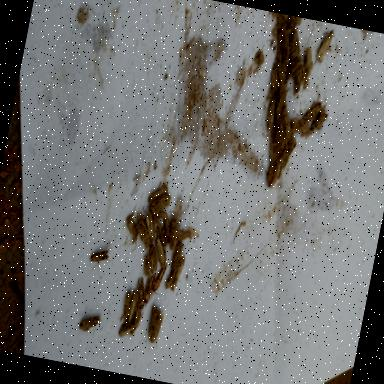pbw: (314, 26, 338, 66), (150, 262, 172, 298), (122, 214, 142, 250), (132, 276, 152, 312), (88, 243, 114, 269), (142, 271, 159, 306), (142, 210, 160, 242), (152, 231, 170, 263), (144, 242, 162, 274), (78, 312, 102, 334), (302, 99, 323, 123), (166, 218, 180, 250), (264, 157, 278, 188), (139, 246, 153, 276), (118, 320, 138, 340), (174, 254, 186, 286), (270, 159, 282, 190), (159, 209, 170, 218)
